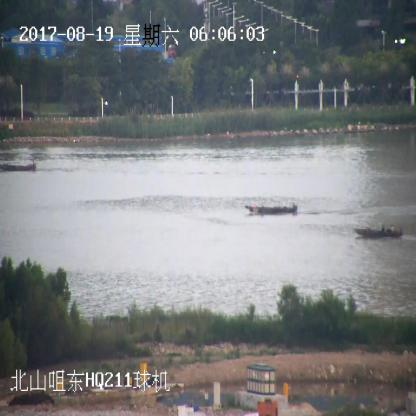Fishing Boat: (355, 226, 404, 240), (246, 203, 299, 214), (0, 160, 36, 172)
